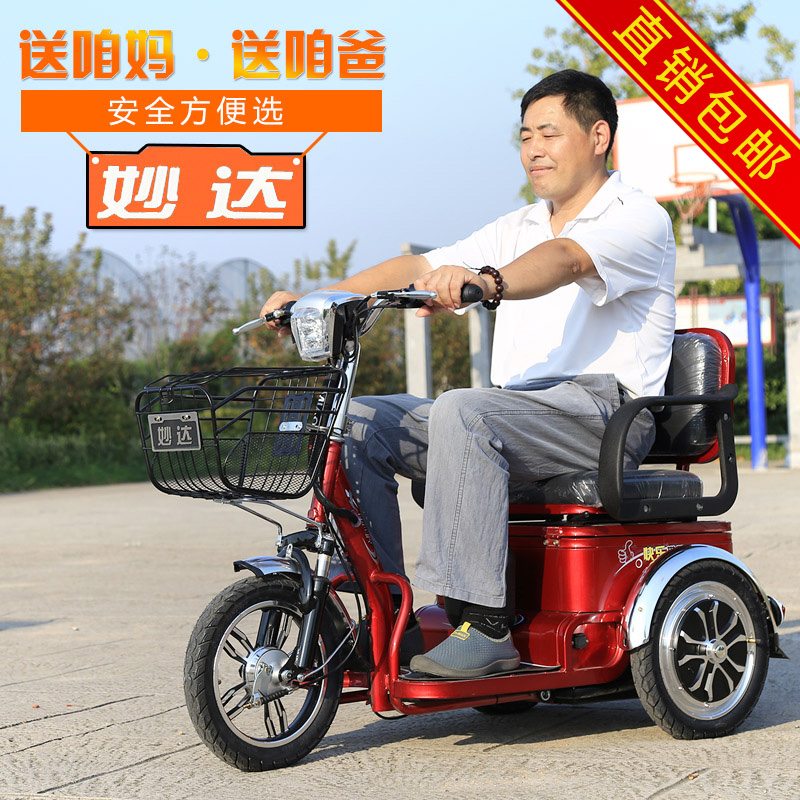电动车: (123, 273, 800, 782)
